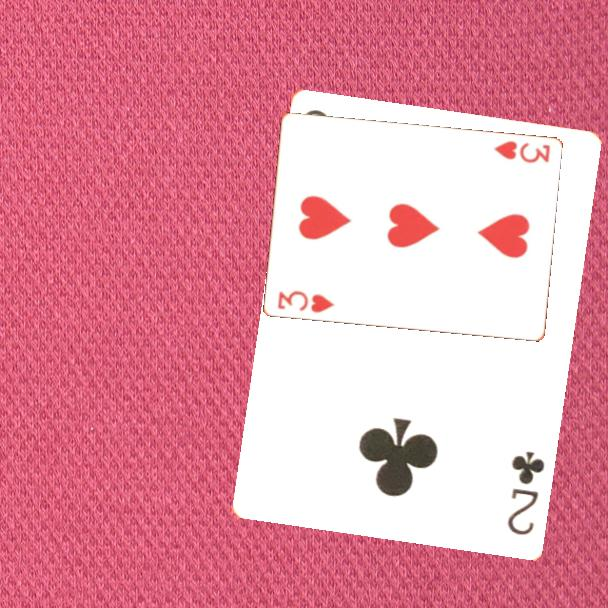c02: (503, 447, 547, 538)
h03: (274, 287, 337, 316), (490, 137, 553, 166)
